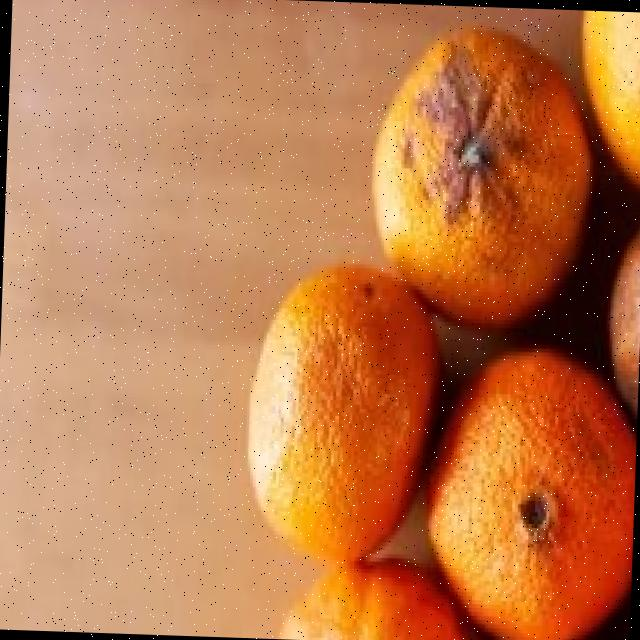overripe: (364, 19, 597, 334), (425, 343, 639, 640), (238, 262, 436, 567)
